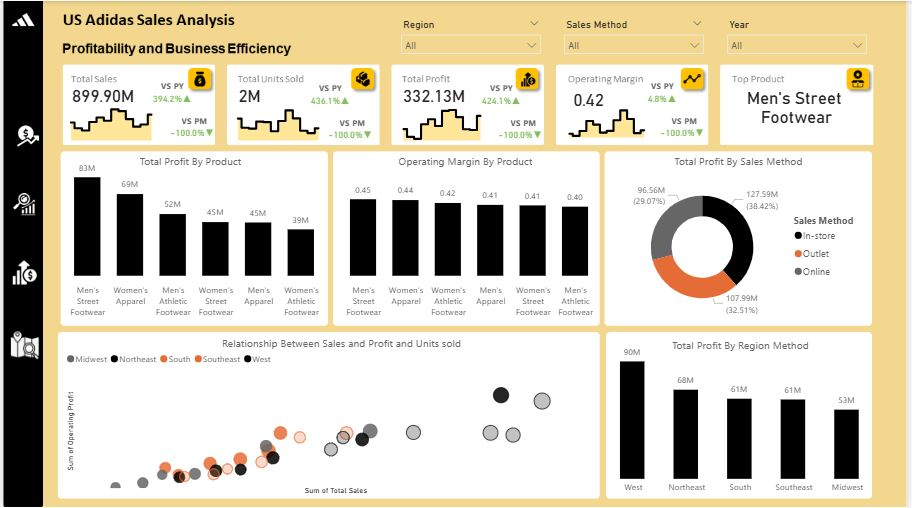

This screenshot's page, from the dashboard's own definition file:
{"tool":"powerbi","page":{"name":"PROFITABILITY AND bUSINESS EFFICIENCY","canvas":[1280,720],"ordinal":2},"visuals":[{"type":"columnChart","fields":{"Y":["Sum(Data Sales Adidas (2).Operating Profit)"],"Category":["Data Sales Adidas (2).Product"]},"box":[59.5,211.2,412.4,245.2],"z":0},{"type":"columnChart","fields":{"Category":["Data Sales Adidas (2).Product"],"Y":["Avg(Data Sales Adidas (2).Operating Margin)"]},"box":[450.7,240.9,409.6,215.4],"z":1000},{"type":"donutChart","fields":{"Category":["Data Sales Adidas (2).Sales Method"],"Y":["Sum(Data Sales Adidas (2).Operating Profit)"]},"box":[856.1,240.9,372.8,215.4],"z":2000},{"type":"scatterChart","fields":{"X":["Sum(Data Sales Adidas (2).Total Sales)"],"Y":["Sum(Data Sales Adidas (2).Operating Profit)"],"Category":["Data Sales Adidas (2).Product"],"Size":["Sum(Data Sales Adidas (2).Units Sold)"],"Series":["Data Sales Adidas (2).Region"]},"box":[85,487.6,756.9,216.9],"z":3000},{"type":"columnChart","fields":{"Y":["Sum(Data Sales Adidas (2).Operating Profit)"],"Category":["Data Sales Adidas (2).Region"]},"box":[839.1,473.4,412.4,233.9],"z":4000},{"type":"card","fields":{"Values":["Data Sales Adidas (2).Total_Sales"]},"box":[70.9,107.7,141.7,52.4],"z":5000},{"type":"card","fields":{"Values":["Data Sales Adidas (2).Total_Units_Sold"]},"box":[309,106.3,80.8,53.9],"z":6000},{"type":"card","fields":{"Values":["Data Sales Adidas (2).Total_Profit"]},"box":[551.3,106.3,119.1,53.9],"z":7000},{"type":"card","fields":{"Values":["Data Sales Adidas (2).Averag_Operating_margin"]},"box":[763.9,117.6,131.8,42.5],"z":8000},{"type":"card","fields":{"Values":["Data Sales Adidas (2).Top Product Bought"]},"box":[1016.2,107.7,216.9,83.6],"z":9000},{"type":"shape","box":[167.2,212.6,197,28.3],"z":10000},{"type":"shape","box":[557,212.6,197,28.3],"z":11000},{"type":"shape","box":[943.9,212.6,197,28.3],"z":12000},{"type":"shape","box":[946.8,473.4,197,28.3],"z":13000},{"type":"shape","box":[289.1,470.6,381.3,28.3],"z":14000},{"type":"lineChart","fields":{"Y":["Sum(Data Sales Adidas (2).Total Sales)"],"Category":["Date_Table.Month"]},"box":[70.9,136.1,185.7,66.6],"z":15000},{"type":"lineChart","fields":{"Category":["Date_Table.Month"],"Y":["Data Sales Adidas (2).Total_Units_Sold"]},"box":[307.6,124.7,185.7,78],"z":16000},{"type":"lineChart","fields":{"Category":["Date_Table.Month"],"Y":["Data Sales Adidas (2).Total_Profit"]},"box":[542.8,138.9,178.6,63.8],"z":17000},{"type":"lineChart","fields":{"Category":["Date_Table.Month"],"Y":["Data Sales Adidas (2).Averag_Operating_margin"]},"box":[778.1,134.6,174.3,63.8],"z":18000},{"type":"shape","box":[202.7,106.3,75.1,28.3],"z":19000},{"type":"card","fields":{"Values":["Data Sales Adidas (2).YOY Sales"]},"box":[201.3,124.7,78,22.7],"z":20000},{"type":"shape","box":[233.9,155.9,75.1,28.3],"z":21000},{"type":"card","fields":{"Values":["Data Sales Adidas (2).MoM sales"]},"box":[229.6,172.9,78,22.7],"z":22000},{"type":"shape","box":[426.7,109.2,75.1,28.3],"z":23000},{"type":"card","fields":{"Values":["Data Sales Adidas (2).YOY Units"]},"box":[425.3,127.6,78,22.7],"z":24000},{"type":"shape","box":[457.9,158.8,75.1,28.3],"z":25000},{"type":"card","fields":{"Values":["Data Sales Adidas (2).MoM units"]},"box":[453.6,175.8,78,22.7],"z":26000},{"type":"shape","box":[669.1,109.2,75.1,28.3],"z":27000},{"type":"card","fields":{"Values":["Data Sales Adidas (2).YOY Profit"]},"box":[667.6,127.6,78,22.7],"z":28000},{"type":"shape","box":[700.2,158.8,75.1,28.3],"z":29000},{"type":"card","fields":{"Values":["Data Sales Adidas (2).MoM Profit"]},"box":[694.5,175.7,78,22.7],"z":30000},{"type":"shape","box":[897.2,106.3,75.1,28.3],"z":31000},{"type":"card","fields":{"Values":["Data Sales Adidas (2).YOY operating margin"]},"box":[895.8,124.8,78,22.7],"z":32000},{"type":"shape","box":[928.4,156,75.1,28.3],"z":33000},{"type":"card","fields":{"Values":["Data Sales Adidas (2).MoM Margin"]},"box":[924.2,173,78,22.7],"z":34000},{"type":"slicer","fields":{"Values":["Date_Table.Main_date.Variation.Date Hierarchy.Year","Date_Table.Main_date.Variation.Date Hierarchy.Quarter","Date_Table.Main_date.Variation.Date Hierarchy.Month","Date_Table.Main_date.Variation.Date Hierarchy.Day"]},"box":[1016.2,19.8,218.3,56.7],"z":35000},{"type":"slicer","fields":{"Values":["Data Sales Adidas (2).Sales Method"]},"box":[785.2,19.8,218.3,56.7],"z":36000},{"type":"slicer","fields":{"Values":["Data Sales Adidas (2).Region"]},"box":[554.2,19.8,218.3,56.7],"z":37000},{"type":"image","box":[0.5,170.1,70.9,41.1],"z":37001},{"type":"image","box":[2.5,266,55.3,42.5],"z":37002},{"type":"image","box":[2.5,363.3,55.3,43.9],"z":37003},{"type":"image","box":[2.5,462,55.3,52.4],"z":37004}]}

Visuals, with their boxes on the page's 1280x720 design canvas (x1, y1, x2, y2). These are canvas units, not pixel positions in the 912x508 screenshot, which may show the page scaled, cropped or inside an application window:
columnChart - Sum(Data Sales Adidas (2).Operating Profit) x Data Sales Adidas (2).Product: l=60, t=211, r=472, b=456
columnChart - Data Sales Adidas (2).Product x Avg(Data Sales Adidas (2).Operating Margin): l=451, t=241, r=860, b=456
donutChart - Data Sales Adidas (2).Sales Method x Sum(Data Sales Adidas (2).Operating Profit): l=856, t=241, r=1229, b=456
scatterChart - Sum(Data Sales Adidas (2).Total Sales) x Sum(Data Sales Adidas (2).Operating Profit): l=85, t=488, r=842, b=704
columnChart - Sum(Data Sales Adidas (2).Operating Profit) x Data Sales Adidas (2).Region: l=839, t=473, r=1252, b=707
card - Data Sales Adidas (2).Total_Sales: l=71, t=108, r=213, b=160
card - Data Sales Adidas (2).Total_Units_Sold: l=309, t=106, r=390, b=160
card - Data Sales Adidas (2).Total_Profit: l=551, t=106, r=670, b=160
card - Data Sales Adidas (2).Averag_Operating_margin: l=764, t=118, r=896, b=160
card - Data Sales Adidas (2).Top Product Bought: l=1016, t=108, r=1233, b=191
shape: l=167, t=213, r=364, b=241
shape: l=557, t=213, r=754, b=241
shape: l=944, t=213, r=1141, b=241
shape: l=947, t=473, r=1144, b=502
shape: l=289, t=471, r=670, b=499
lineChart - Sum(Data Sales Adidas (2).Total Sales) x Date_Table.Month: l=71, t=136, r=257, b=203
lineChart - Date_Table.Month x Data Sales Adidas (2).Total_Units_Sold: l=308, t=125, r=493, b=203
lineChart - Date_Table.Month x Data Sales Adidas (2).Total_Profit: l=543, t=139, r=721, b=203
lineChart - Date_Table.Month x Data Sales Adidas (2).Averag_Operating_margin: l=778, t=135, r=952, b=198
shape: l=203, t=106, r=278, b=135
card - Data Sales Adidas (2).YOY Sales: l=201, t=125, r=279, b=147
shape: l=234, t=156, r=309, b=184
card - Data Sales Adidas (2).MoM sales: l=230, t=173, r=308, b=196
shape: l=427, t=109, r=502, b=138
card - Data Sales Adidas (2).YOY Units: l=425, t=128, r=503, b=150
shape: l=458, t=159, r=533, b=187
card - Data Sales Adidas (2).MoM units: l=454, t=176, r=532, b=198
shape: l=669, t=109, r=744, b=138
card - Data Sales Adidas (2).YOY Profit: l=668, t=128, r=746, b=150
shape: l=700, t=159, r=775, b=187
card - Data Sales Adidas (2).MoM Profit: l=694, t=176, r=772, b=198
shape: l=897, t=106, r=972, b=135
card - Data Sales Adidas (2).YOY operating margin: l=896, t=125, r=974, b=148
shape: l=928, t=156, r=1004, b=184
card - Data Sales Adidas (2).MoM Margin: l=924, t=173, r=1002, b=196
slicer - Date_Table.Main_date.Variation.Date Hierarchy.Year x Date_Table.Main_date.Variation.Date Hierarchy.Quarter: l=1016, t=20, r=1234, b=76
slicer - Data Sales Adidas (2).Sales Method: l=785, t=20, r=1004, b=76
slicer - Data Sales Adidas (2).Region: l=554, t=20, r=772, b=76
image: l=0, t=170, r=71, b=211
image: l=2, t=266, r=58, b=308
image: l=2, t=363, r=58, b=407
image: l=2, t=462, r=58, b=514
